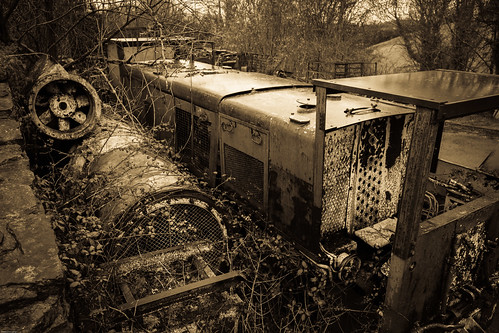train: (142, 42, 453, 286)
vegetation: (226, 1, 477, 74)
